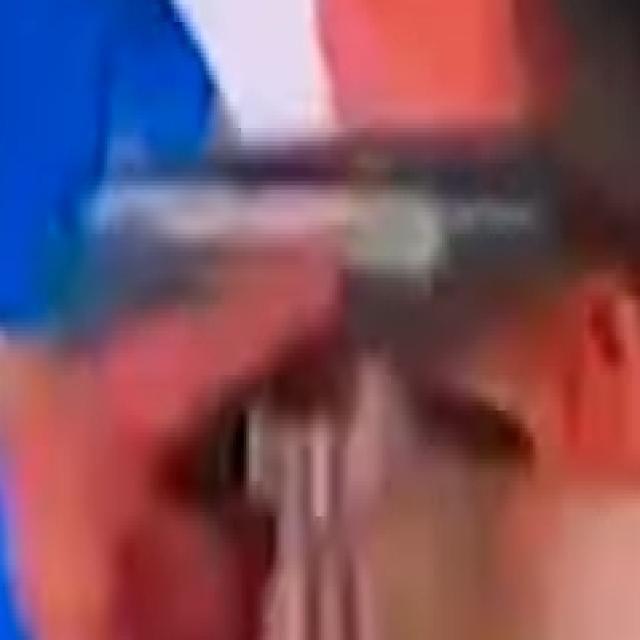FPistol: (107, 146, 540, 411)
